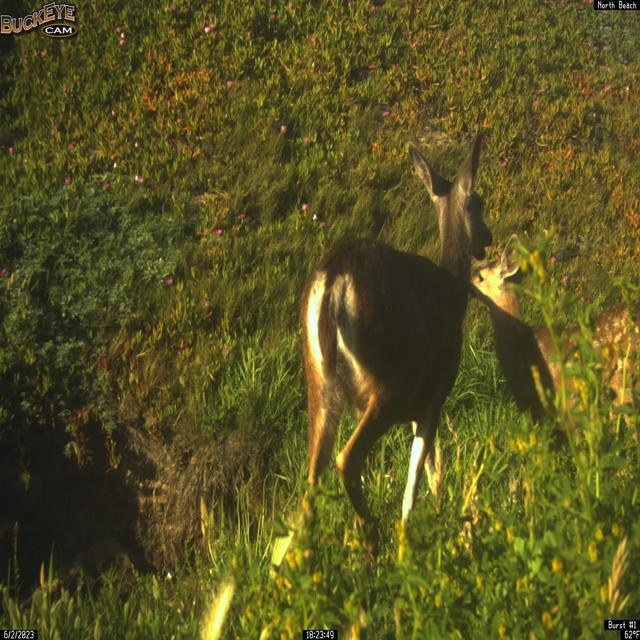deer: (290, 125, 493, 579)
